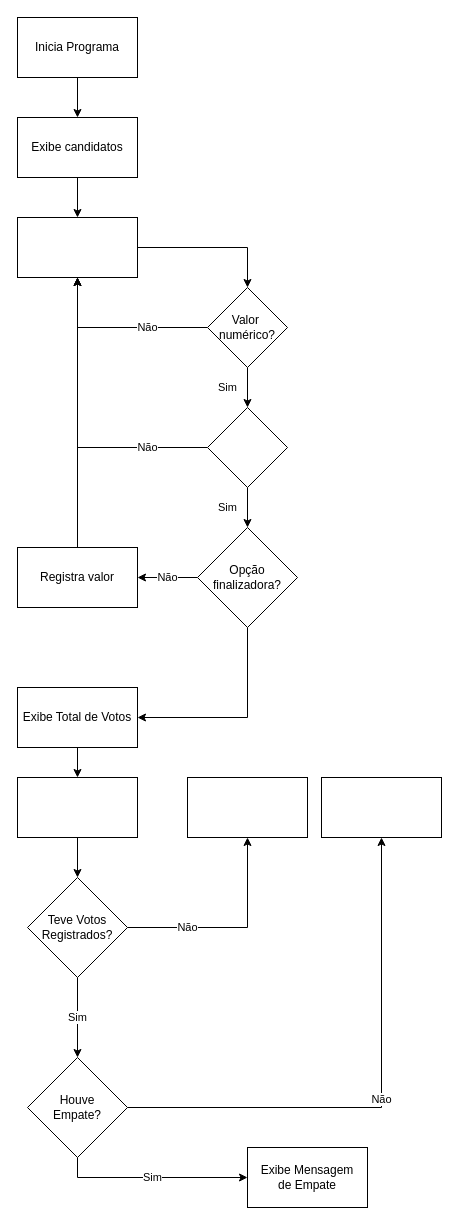
This 459x1225 diagram has some shape labels left out. Each missing label, with the centre of its shape:
"Exibe Mensagem de Nenhum Voto" goes at (x=247, y=807).
"Exibe Porcentagem de Votos Nulos e Brancos" goes at (x=77, y=807).
"Exibe Vencedor" goes at (x=381, y=807).
"Opção válida?" goes at (x=247, y=447).
"Usuário insere valor" goes at (x=77, y=247).
